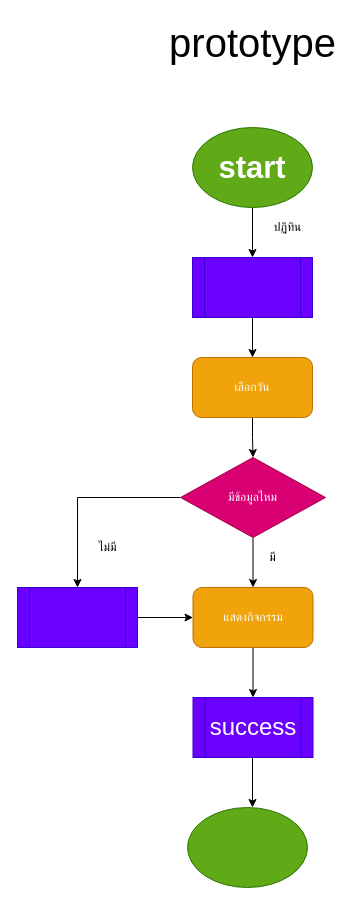
This 360x905 diagram has some shape labels left out. The centre of each missing label's shape, as x and y in pixels:
"add data" goes at [77,617].
"calender" goes at [252,287].
"end" goes at [247,847].
